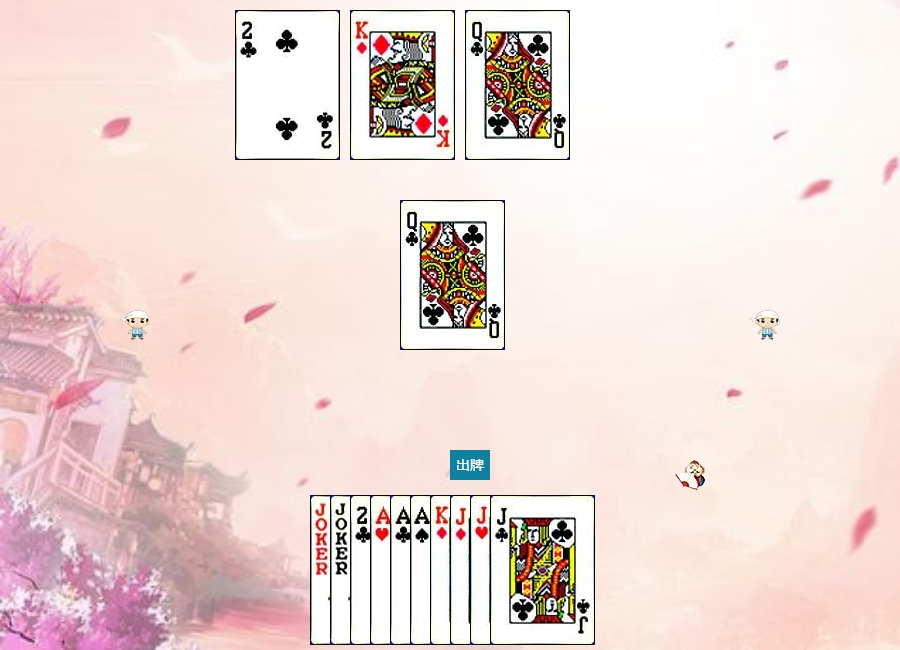11~1: (450, 495, 555, 645)
11~2: (490, 495, 595, 645)
11~3: (470, 495, 575, 645)
12~2: (465, 10, 570, 160), (400, 200, 505, 350)
13~1: (350, 10, 455, 160), (430, 495, 535, 645)
14~2: (390, 495, 495, 645)
14~3: (370, 495, 475, 645)
14~4: (410, 495, 515, 645)
15~2: (235, 10, 340, 160), (350, 495, 455, 645)
17~3: (330, 495, 435, 645)
18~4: (310, 495, 415, 645)
